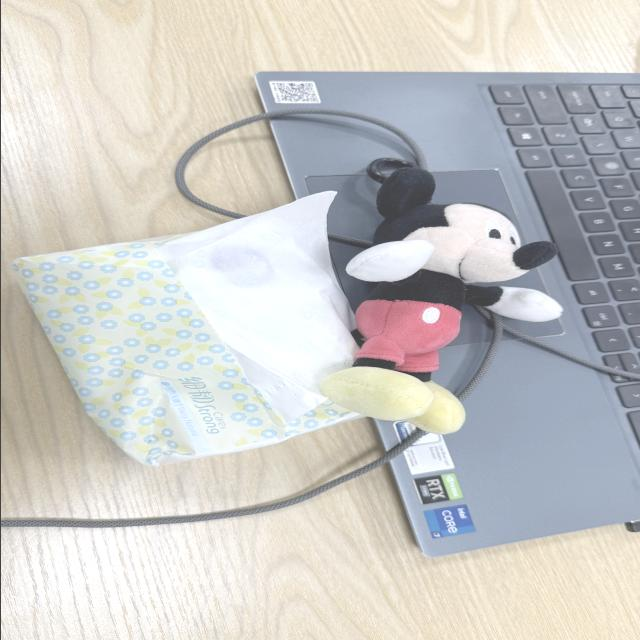mickey: (321, 168, 560, 433)
tissue: (13, 192, 359, 467)
